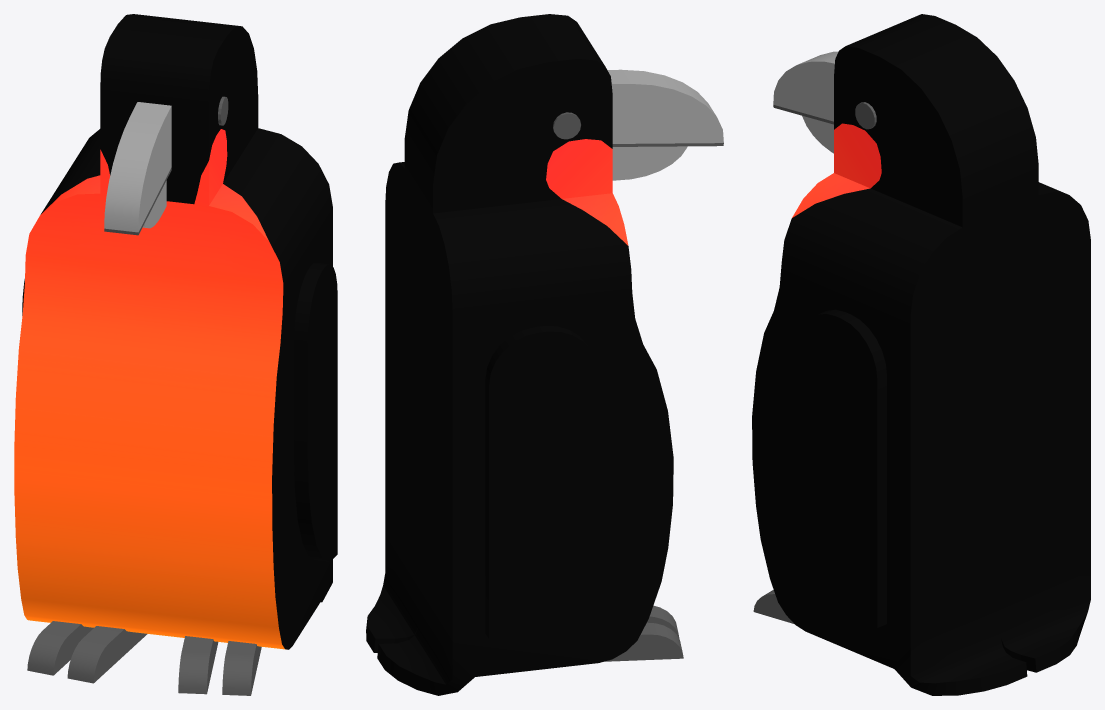
File: penguin.glb
3 views of the same model, side by side, from view 1: azimuth 30°, elevation 25°; view 2: azimuth 150°, elevation 25°; view 3: azimuth 270°, elevation 25° (orthographic). The views are drawn at different scales.
Visible parts, largest first — view 1: Cube.110; view 2: Cube.110; view 3: Cube.110.
Boxes of the visible parts, left/top/right/bottom form: Cube.110: left=14, top=14, right=337, bottom=695; Cube.110: left=366, top=14, right=723, bottom=695; Cube.110: left=752, top=14, right=1090, bottom=695.
Bounding box in the file's own units: 1.16 × 2.21 × 1.16.
Materials: 1 (1 with a texture image).
